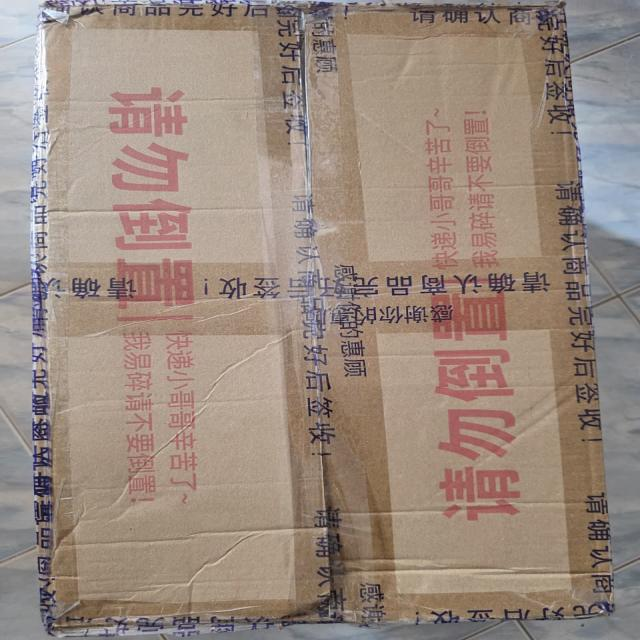carton_box: (18, 0, 628, 636)
package_damage: (274, 426, 402, 640)
